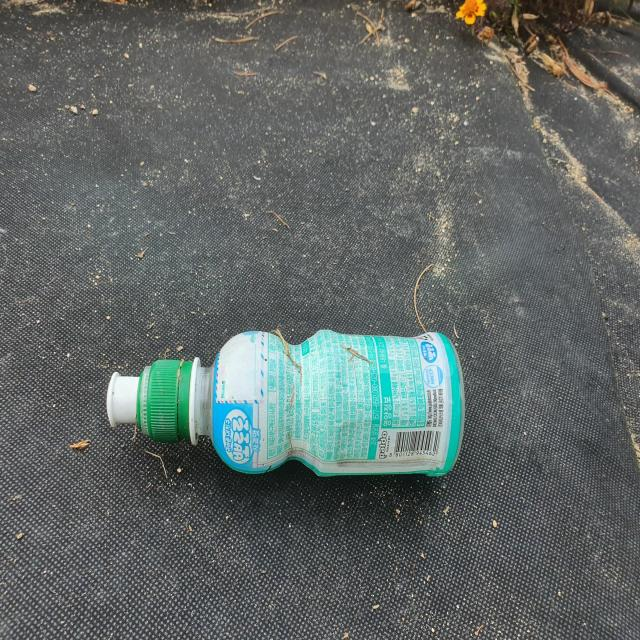plastic: (106, 330, 465, 476)
